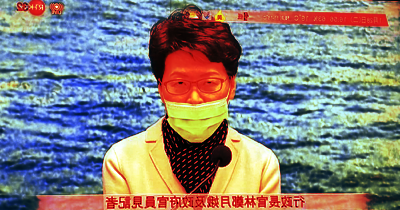mask_weared_incorrect: (161, 69, 229, 144)
